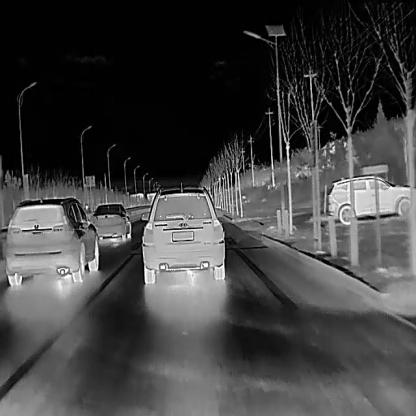car: (2, 194, 98, 286), (140, 184, 225, 284), (326, 171, 416, 226), (89, 202, 130, 242)
